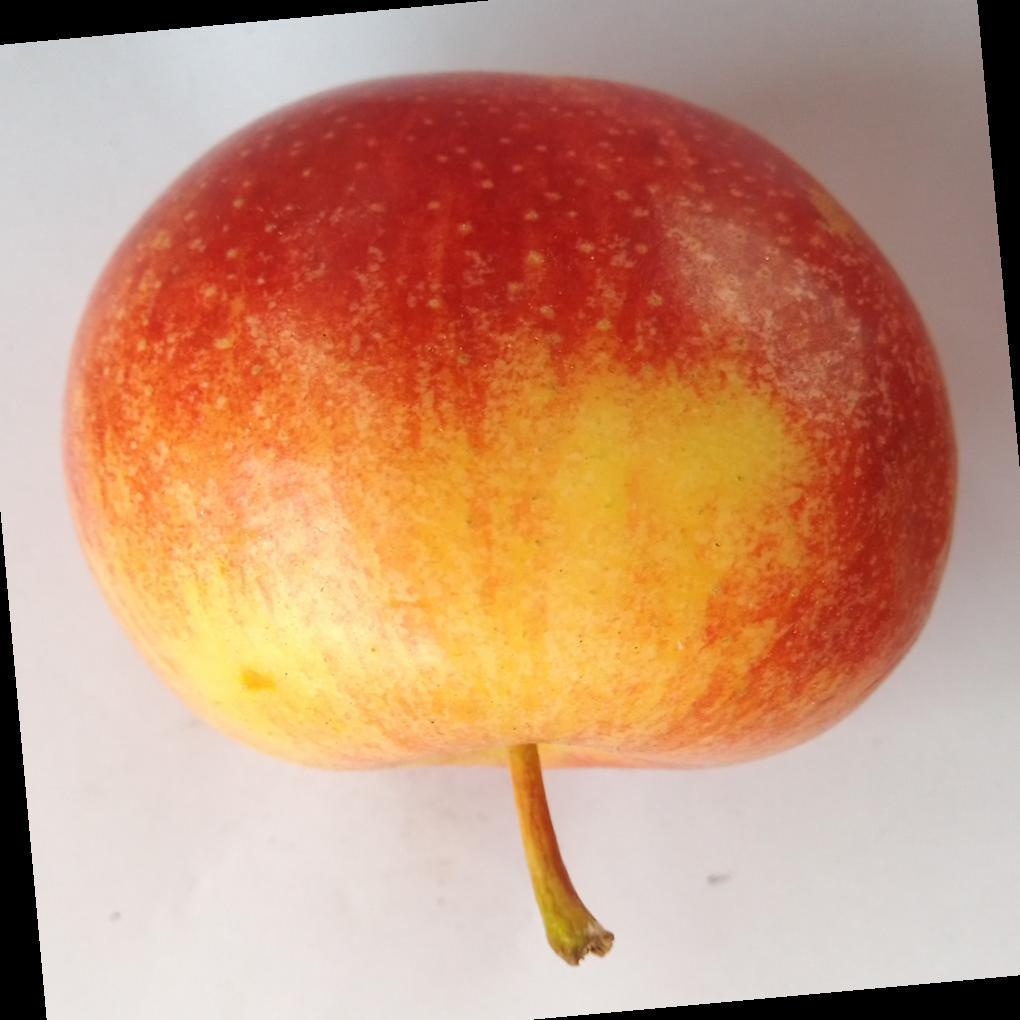FreshGuava: (60, 71, 960, 971)
